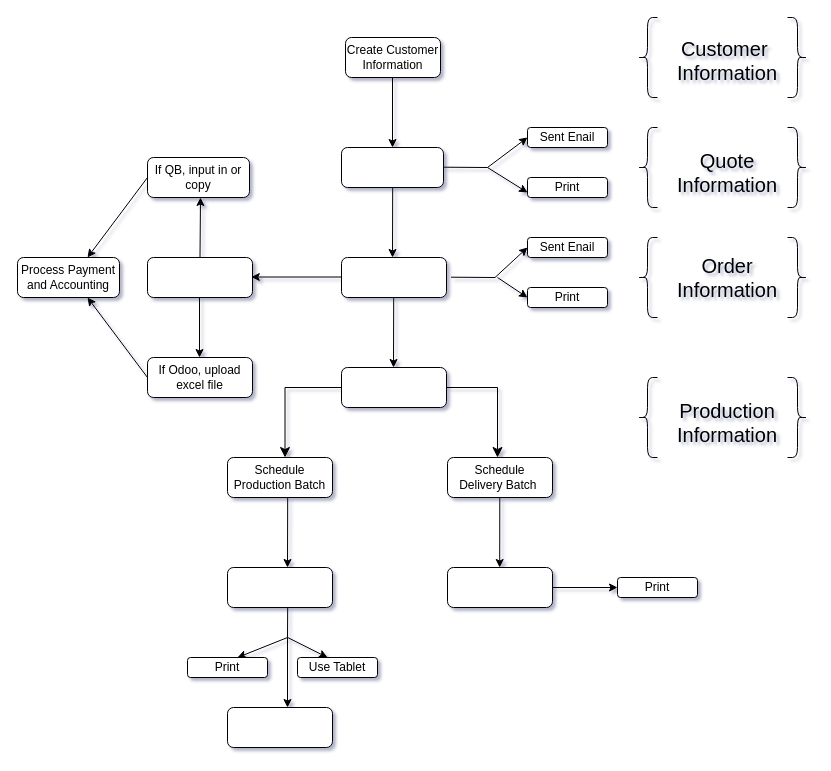
Some shapes in this 831 by 771 pixel diagram are drawn without their labels. The centre of each missing label's shape, as x and y in pixels:
"Convert to a Order" goes at (x=393, y=277).
"Create a Quote" goes at (x=392, y=167).
"Create Batches" goes at (x=393, y=387).
"Cutting Lists to Folder" goes at (x=279, y=727).
"Generate Delivery Note" goes at (x=499, y=587).
"Generate Production List" goes at (x=279, y=587).
"Order to QB Or Odoo" goes at (x=199, y=277).
